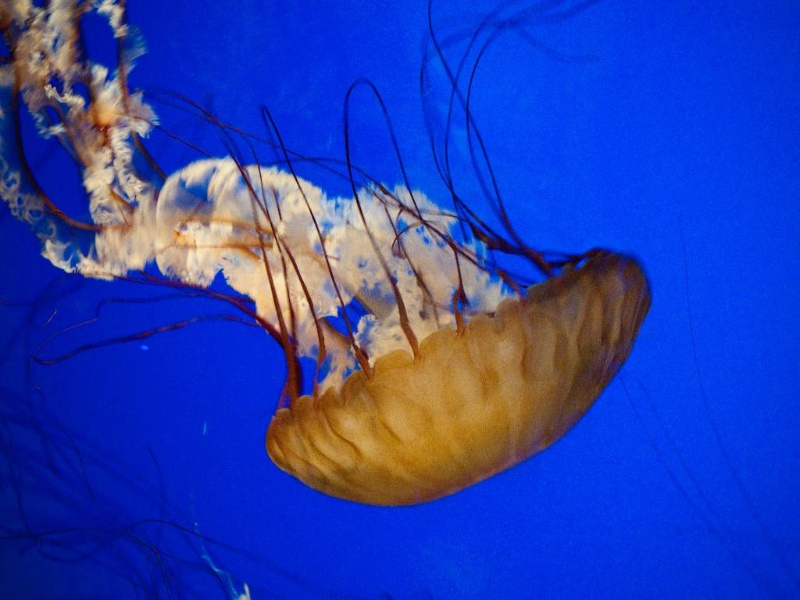Jellyfish: (118, 17, 670, 539)
